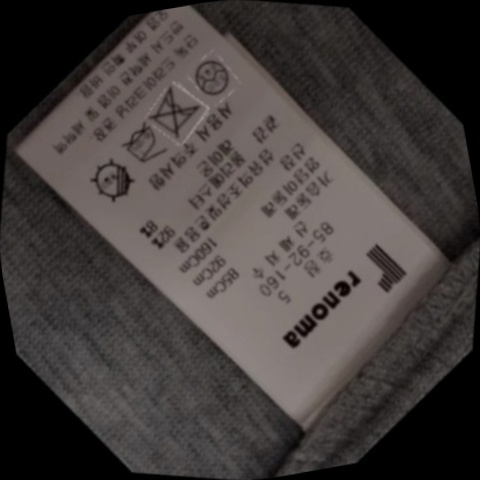DN_wash: (141, 79, 214, 146)
dry_clean_petrol_only: (185, 47, 243, 105)
iron_low: (111, 116, 175, 176)
line_dry_in_shade: (81, 150, 150, 213)
